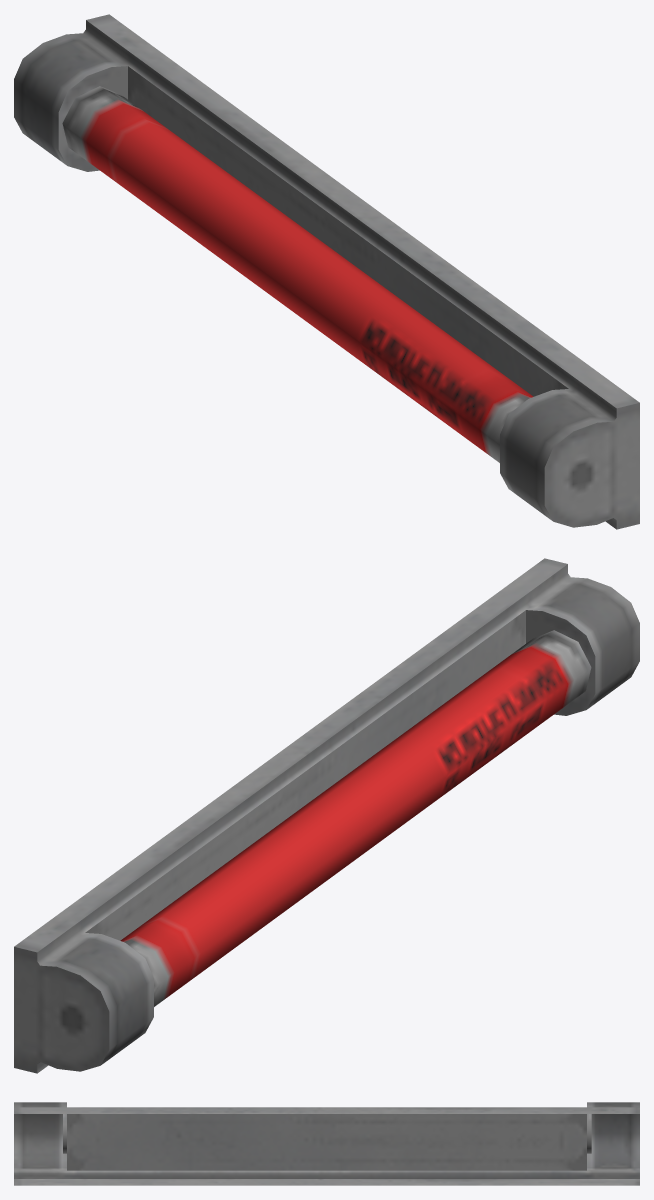
File: HH_Lamp_Red.fbx
3 views of the same model, one above another, from view 1: azimuth 30°, elevation 25°; view 2: azimuth 150°, elevation 25°; view 3: azimuth 270°, elevation 25° (orthographic). The views are drawn at different scales.
Parts seen in each view (by area): view 1: HH_Lamp_Red; view 2: HH_Lamp_Red; view 3: HH_Lamp_Red.
Boxes of the visible parts, x1,y1,x2,y2 form: HH_Lamp_Red: (14, 14, 639, 529); HH_Lamp_Red: (14, 558, 639, 1073); HH_Lamp_Red: (14, 1102, 639, 1185).
Size of the model in its own units: 4.18 by 5.08 by 40.33.
